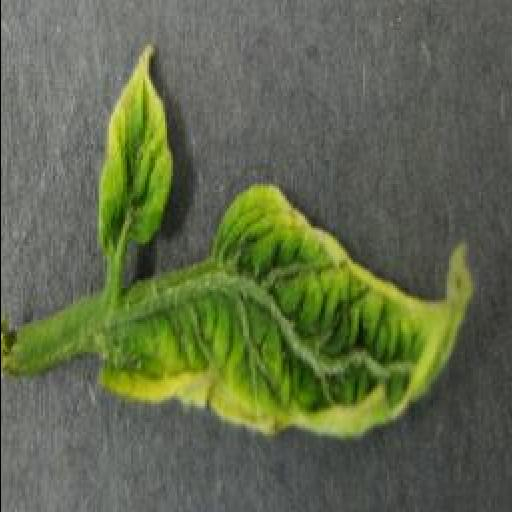disease_tomato: (97, 184, 475, 440), (93, 42, 175, 244)
